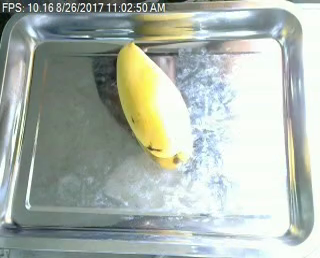Mango: (111, 41, 194, 163)
